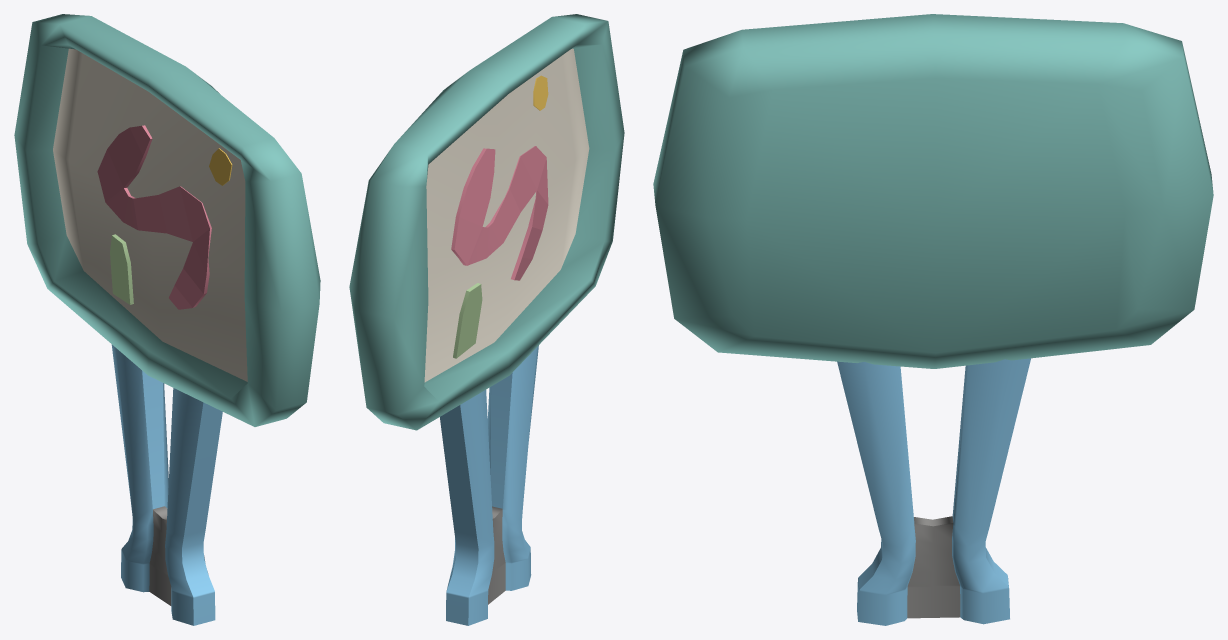
Rendered from Billboard_3.fbx.
3 views of the same model, side by side, from view 1: azimuth 30°, elevation 25°; view 2: azimuth 150°, elevation 25°; view 3: azimuth 270°, elevation 25° (orthographic). The views are drawn at different scales.
Parts seen in each view (by area): view 1: Billboard_3; view 2: Billboard_3; view 3: Billboard_3.
Boxes of the visible parts, x1,y1,x2,y2 form: Billboard_3: (14,14,320,625); Billboard_3: (349,14,624,625); Billboard_3: (653,14,1213,625).
Bounding box in the file's own units: 94.27 × 419 × 486.
